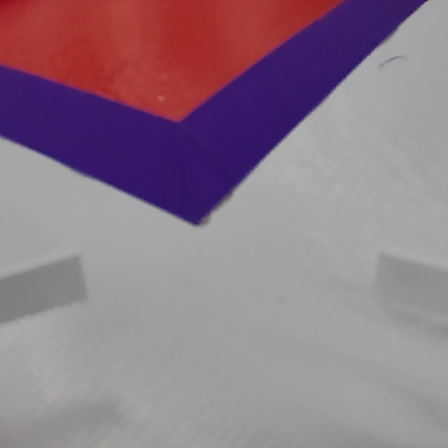red_aim: (0, 0, 446, 229)
